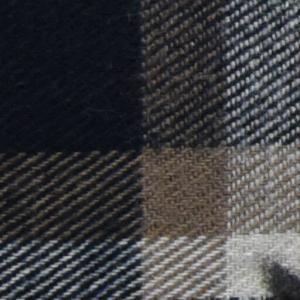Stain: (256, 254, 300, 300)
